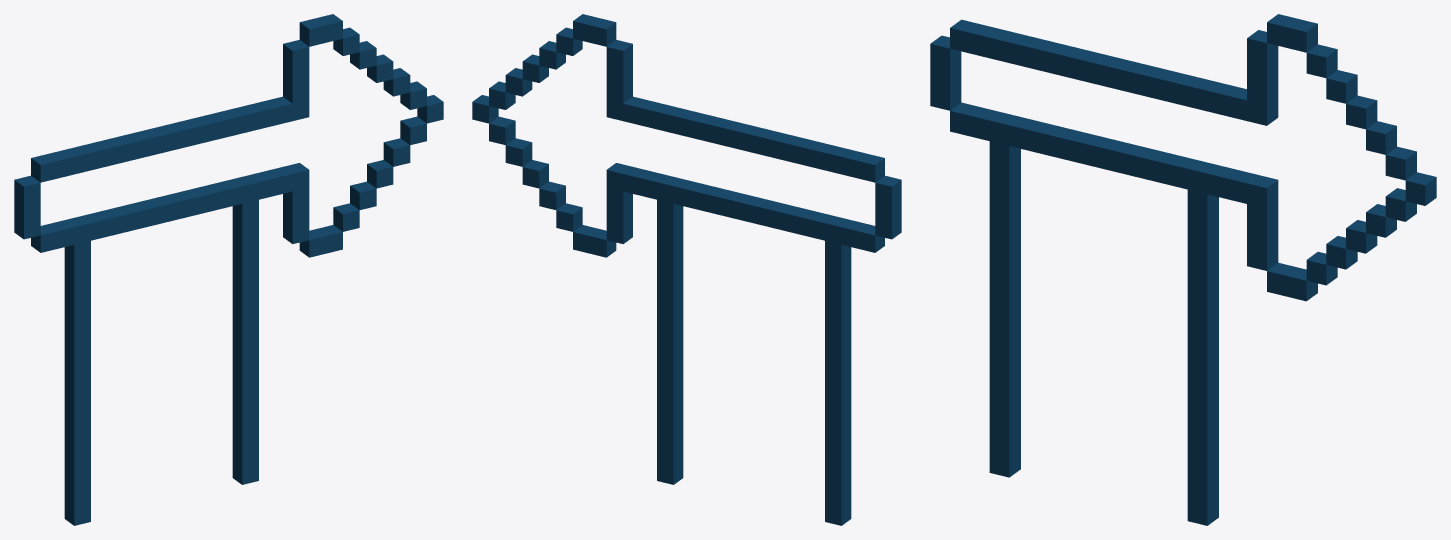
File: Arrow-0.obj
3 views of the same model, side by side, from view 1: azimuth 30°, elevation 25°; view 2: azimuth 150°, elevation 25°; view 3: azimuth 330°, elevation 25° (orthographic). The views are drawn at different scales.
Visible parts, largest first — view 1: Arrow-0; view 2: Arrow-0; view 3: Arrow-0.
Boxes of the visible parts, bbox=[...] form: Arrow-0: bbox=[14, 14, 443, 525]; Arrow-0: bbox=[472, 14, 901, 525]; Arrow-0: bbox=[930, 14, 1436, 525].
Size of the model in its own units: 25 by 25 by 1.
Materials: 1 (1 with a texture image).
